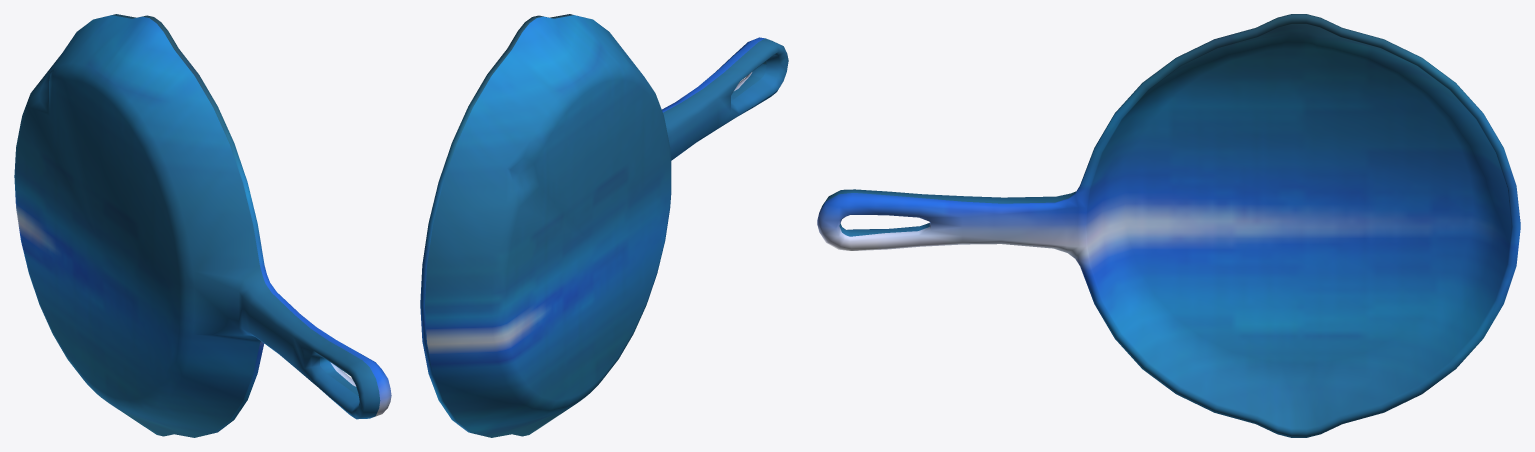
Rendered from polarite_frying_pan.obj.
3 renders of one model, left to right at view 1: azimuth 30°, elevation 25°; view 2: azimuth 150°, elevation 25°; view 3: azimuth 270°, elevation 25°, orthographic. The views are drawn at different scales.
Parts seen in each view (by area): view 1: tf2FryingPan.001; view 2: tf2FryingPan.001; view 3: tf2FryingPan.001.
Part boxes in pixels (box(x1,y1,x2,y2)): tf2FryingPan.001: box(14, 14, 391, 437); tf2FryingPan.001: box(420, 14, 788, 437); tf2FryingPan.001: box(817, 14, 1520, 437).
Bounding box in the file's own units: 2.63 × 16.42 × 24.84.
